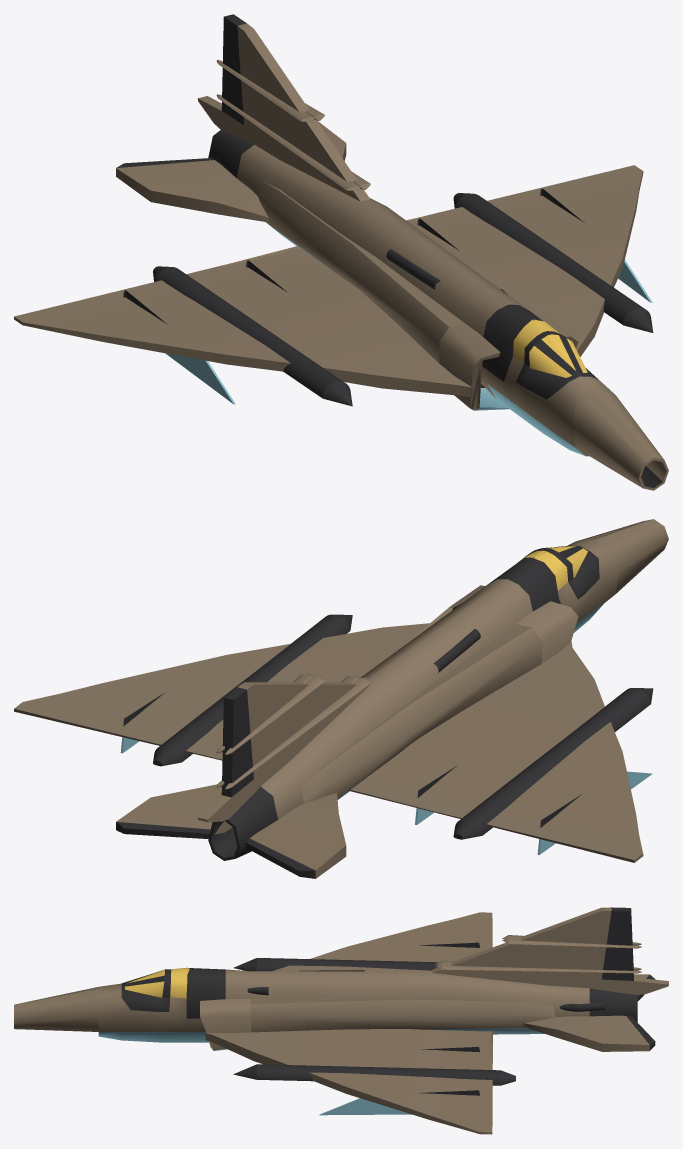
File: Neski.glb
3 views of the same model, one above another, from view 1: azimuth 30°, elevation 25°; view 2: azimuth 150°, elevation 25°; view 3: azimuth 270°, elevation 25° (orthographic). The views are drawn at different scales.
Parts seen in each view (by area): view 1: Airframe; view 2: Airframe, Details; view 3: Airframe, Details.
Part boxes in pixels (bbox=[...]): Airframe: bbox=[14, 14, 668, 490]; Airframe: bbox=[14, 519, 668, 878]; Details: bbox=[433, 603, 480, 673]; Airframe: bbox=[14, 907, 668, 1134]; Details: bbox=[247, 970, 604, 1011].
Size of the model in its own units: 11.91 by 3.37 by 15.
